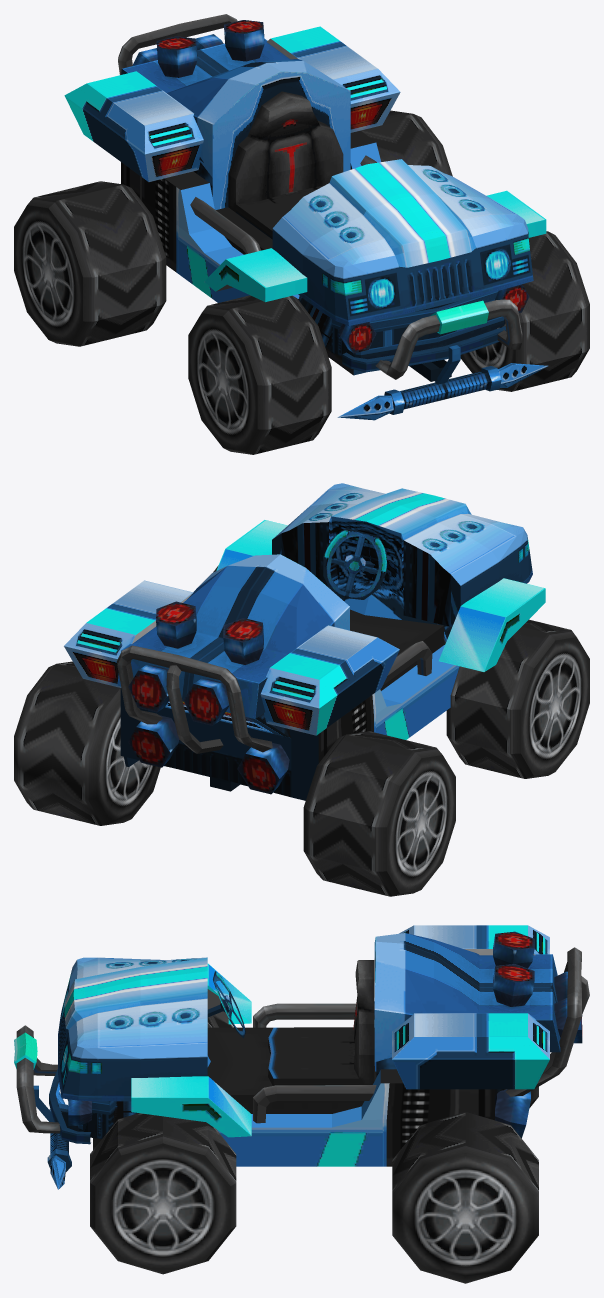
File: cuxinche.FBX
The picture shows the model from 3 angles, top to bottom: view 1: azimuth 30°, elevation 25°; view 2: azimuth 150°, elevation 25°; view 3: azimuth 270°, elevation 25°; orthographic projection. The views are drawn at different scales.
Visible parts, largest first — view 1: cuxincheshen, houyoulun_wheel, qianyoulun_wheel, qianzuolun_wheel, houzuolun_wheel; view 2: cuxincheshen, houyoulun_wheel, qianyoulun_wheel, houzuolun_wheel; view 3: cuxincheshen, houzuolun_wheel, qianzuolun_wheel.
Part boxes in pixels (bbox=[...]): cuxincheshen: bbox=[64, 14, 547, 420]; houyoulun_wheel: bbox=[14, 181, 166, 346]; qianyoulun_wheel: bbox=[188, 295, 331, 454]; qianzuolun_wheel: bbox=[460, 231, 589, 391]; houzuolun_wheel: bbox=[361, 110, 452, 176]; cuxincheshen: bbox=[64, 483, 545, 800]; houyoulun_wheel: bbox=[303, 731, 455, 896]; qianyoulun_wheel: bbox=[446, 619, 589, 778]; houzuolun_wheel: bbox=[14, 661, 160, 825]; cuxincheshen: bbox=[14, 925, 589, 1189]; houzuolun_wheel: bbox=[392, 1112, 538, 1283]; qianzuolun_wheel: bbox=[90, 1113, 236, 1274].
Bounding box in the file's own units: 27.4 × 18.39 × 37.38.
